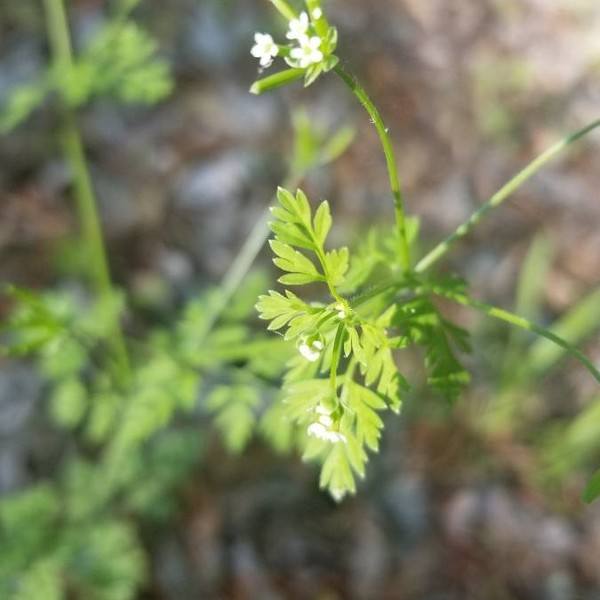obstacle: (233, 9, 526, 487)
